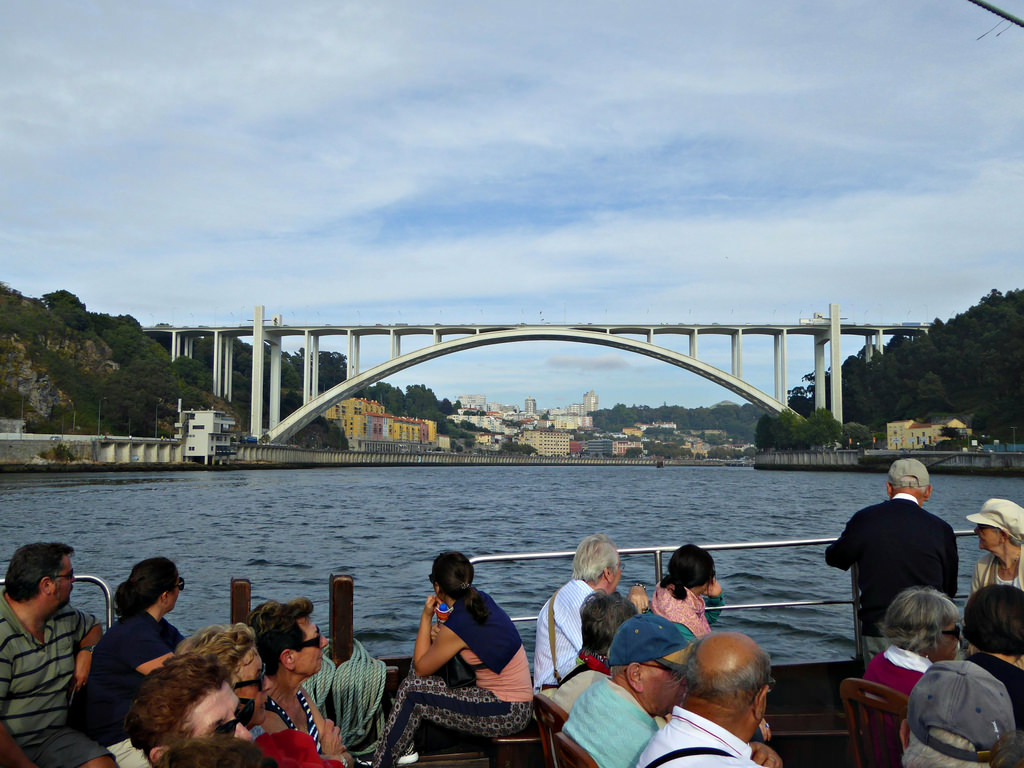arrabida: (143, 303, 926, 445)
